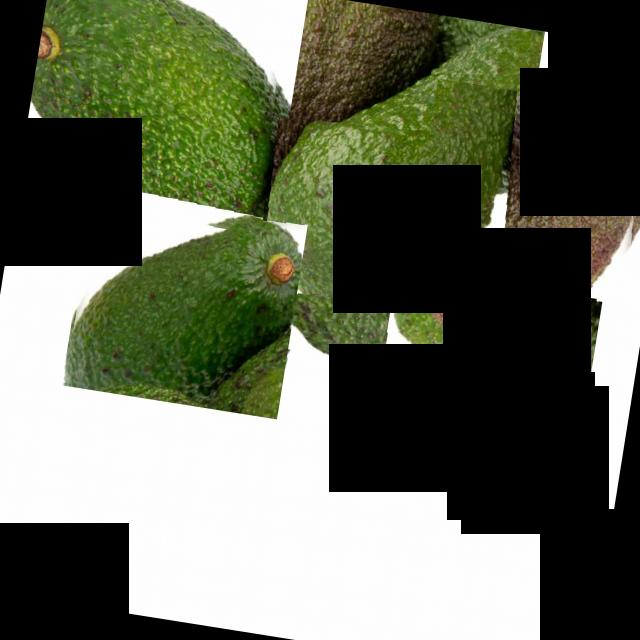avocado: (263, 0, 545, 318), (394, 78, 640, 390), (15, 0, 297, 236), (236, 106, 454, 370), (61, 190, 308, 420), (382, 269, 602, 412)
